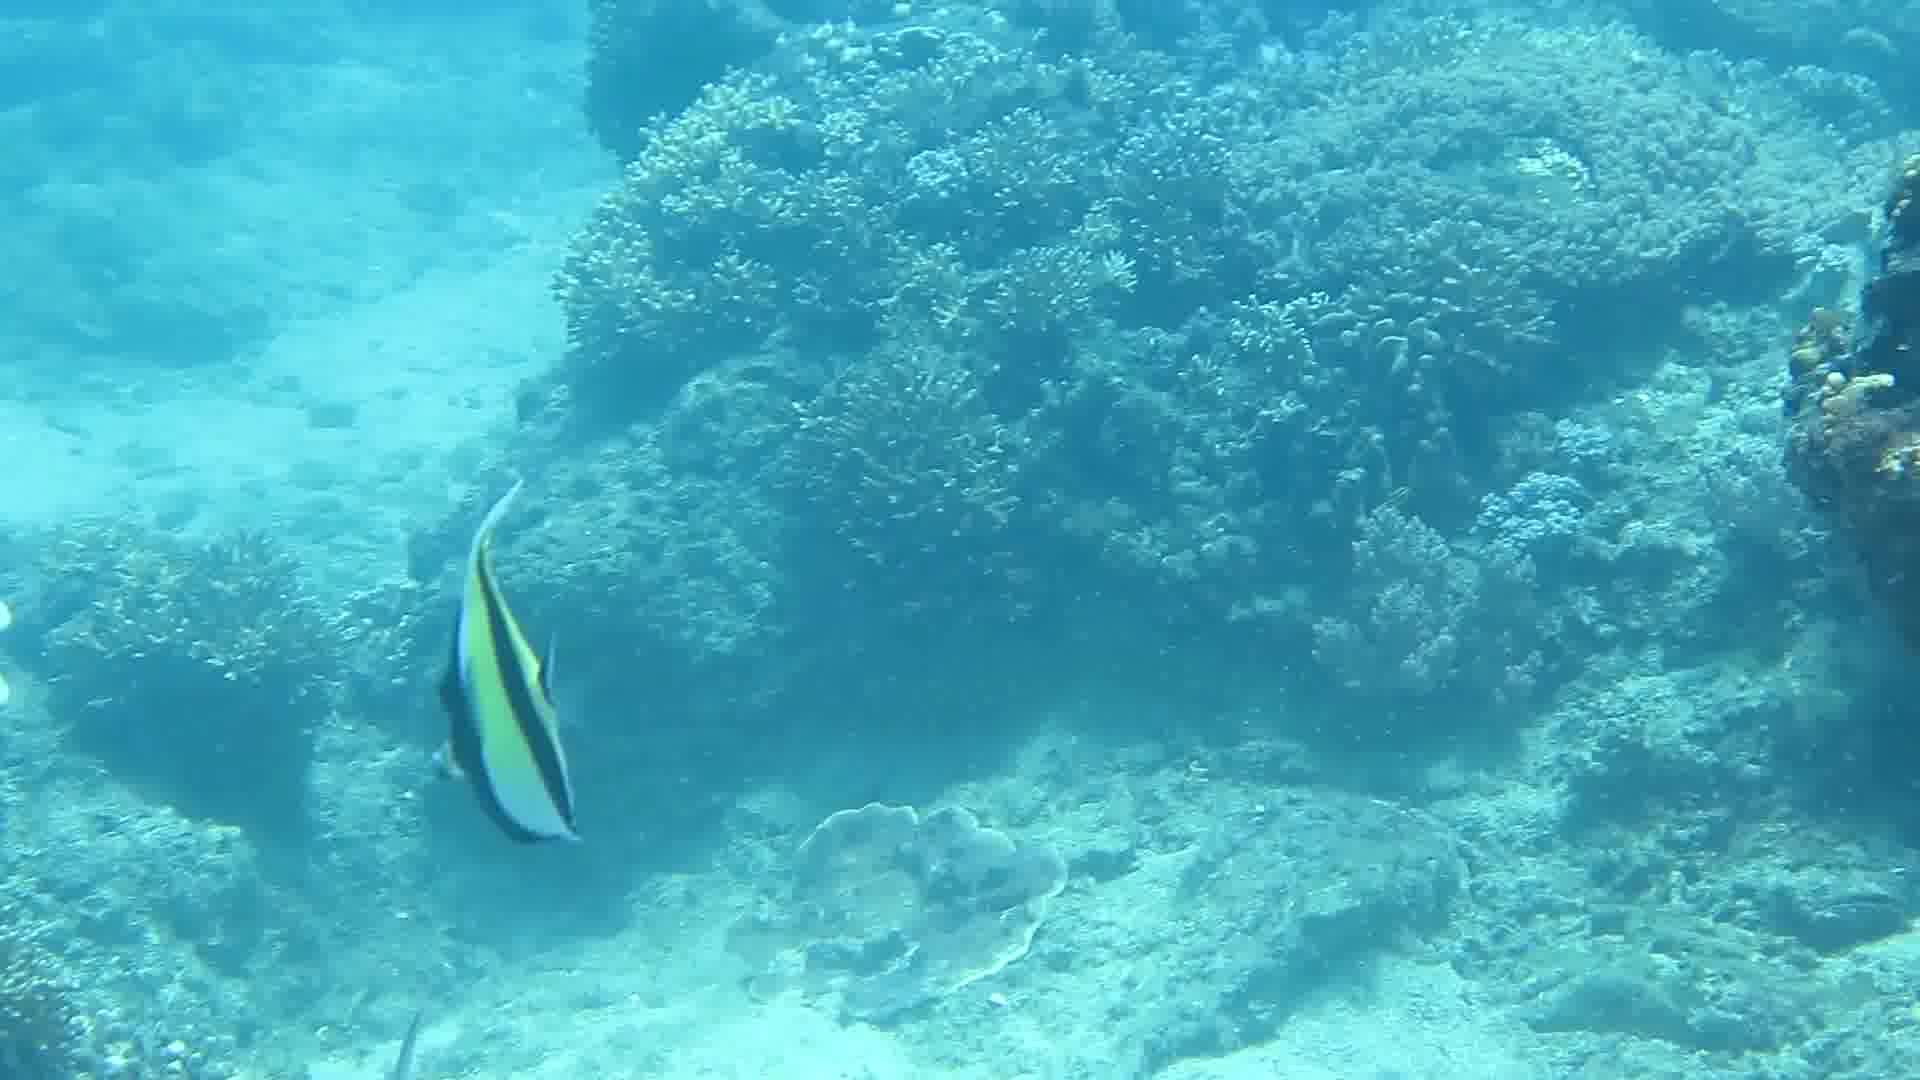Zanclus cornutus: (394, 520, 620, 878)
